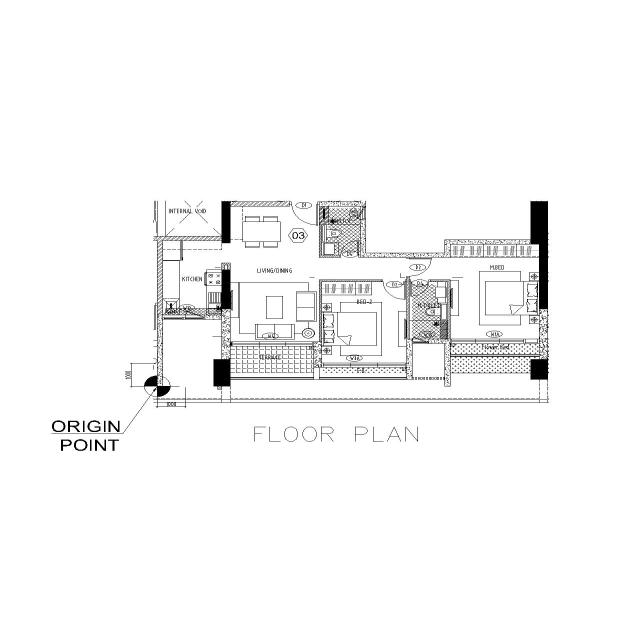Column: (530, 200, 550, 311), (212, 358, 232, 388), (220, 200, 232, 244), (528, 358, 550, 381), (221, 268, 231, 311)
Door: (288, 200, 320, 207), (338, 253, 362, 259), (406, 256, 410, 278), (408, 279, 430, 283), (380, 279, 408, 282)
Opening: (222, 242, 228, 263)
Window: (230, 340, 313, 347), (321, 362, 406, 368), (450, 338, 526, 344), (162, 316, 206, 321), (359, 205, 367, 220), (411, 338, 427, 344)
